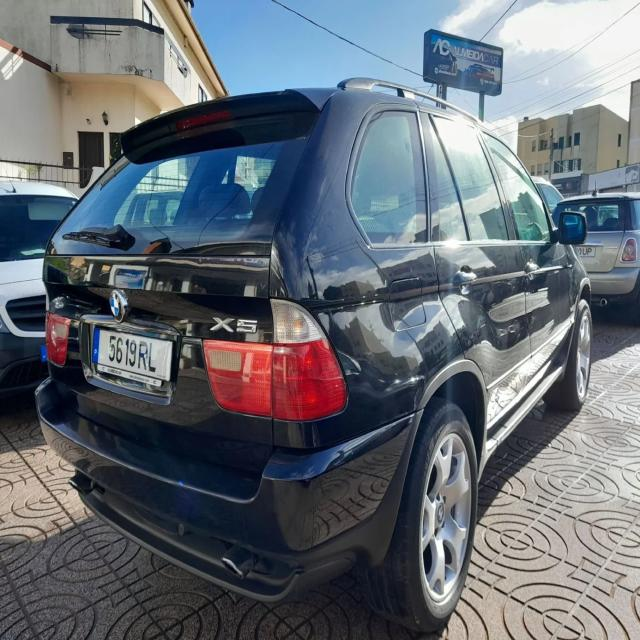portuguese-license-plates: (87, 324, 177, 386)
